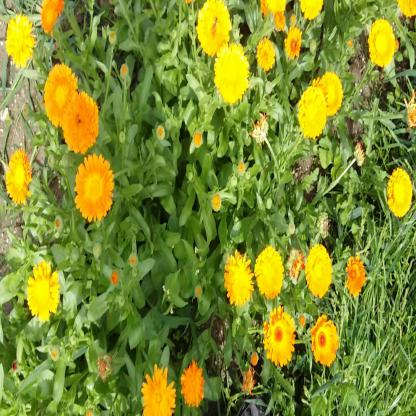marigold: (74, 153, 112, 217), (195, 0, 233, 55), (60, 92, 96, 150), (45, 65, 77, 127), (218, 44, 249, 107), (28, 261, 57, 321), (300, 84, 329, 136), (265, 311, 294, 363), (141, 366, 173, 412), (225, 253, 252, 307), (256, 248, 282, 301), (6, 152, 32, 204), (368, 17, 395, 66), (7, 16, 32, 66), (313, 317, 339, 365), (387, 168, 411, 218), (307, 247, 331, 295), (180, 361, 204, 407), (323, 71, 342, 115), (346, 256, 364, 296), (40, 1, 59, 32), (257, 40, 275, 71), (284, 28, 302, 59)
